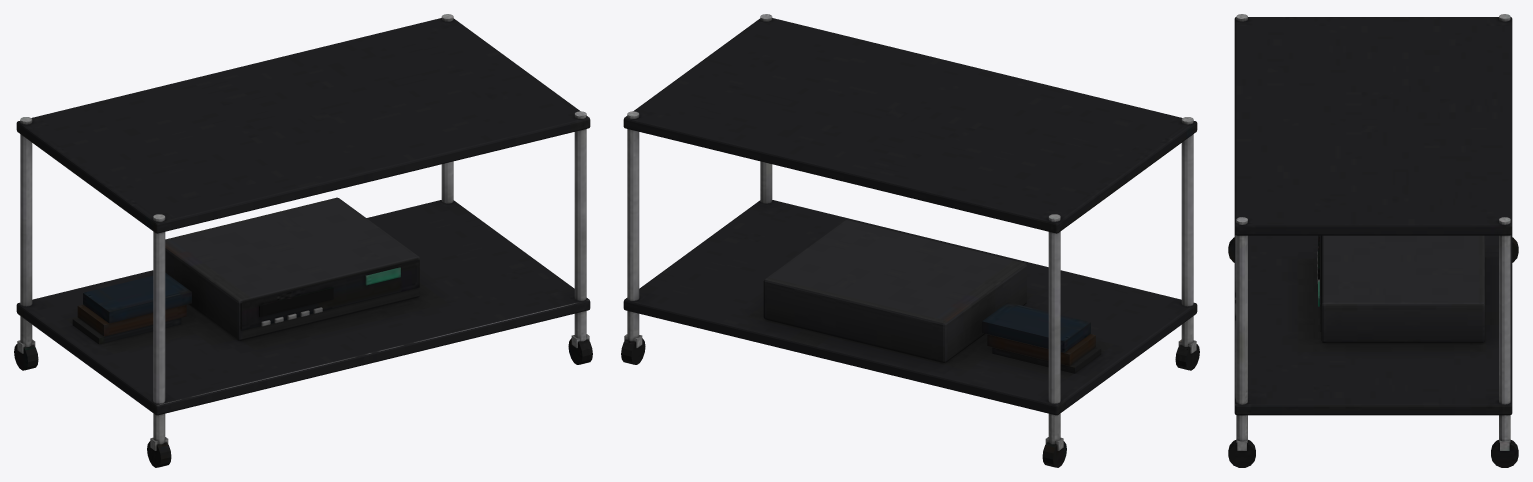
File: sz_wagen.glb
The picture shows the model from 3 angles, left to right: view 1: azimuth 30°, elevation 25°; view 2: azimuth 150°, elevation 25°; view 3: azimuth 270°, elevation 25°; orthographic projection.
Parts seen in each view (by area): view 1: sz_wagen; view 2: sz_wagen; view 3: sz_wagen.
Boxes of the visible parts, left/top/right/bottom form: sz_wagen: left=14, top=14, right=592, bottom=467; sz_wagen: left=621, top=14, right=1199, bottom=467; sz_wagen: left=1228, top=14, right=1518, bottom=467.
Bounding box in the file's own units: 1 × 0.5473 × 0.586.
Materials: 1 (1 with a texture image).
